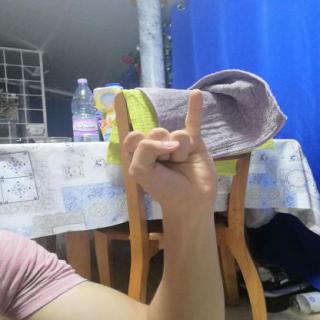MEEM: (113, 81, 227, 208)
